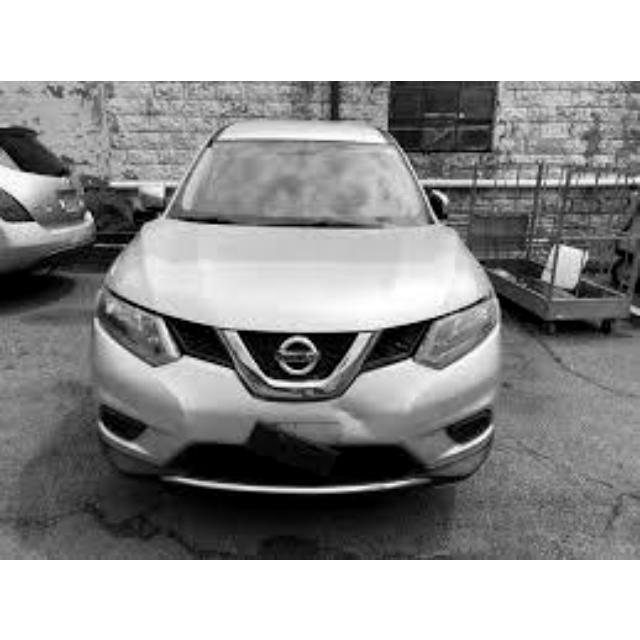front-bumper-dent: (120, 370, 465, 505)
